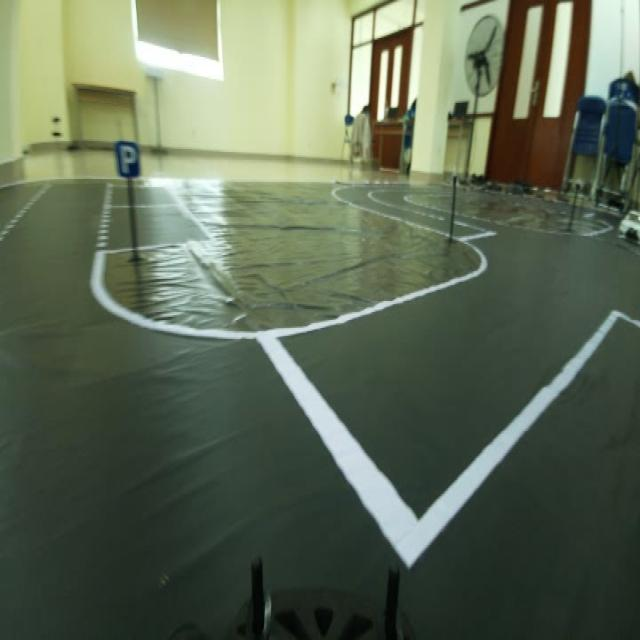parking: (110, 126, 144, 183)
